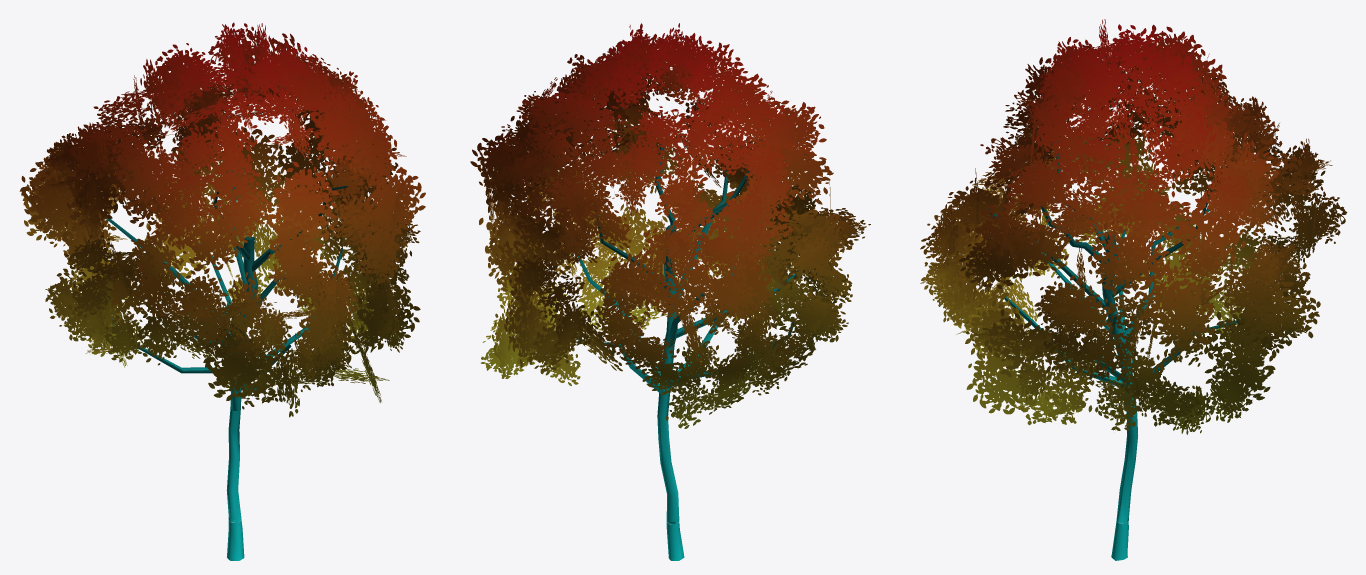
Rendered from V2GenesisBirch1.fbx.
3 views of the same model, side by side, from view 1: azimuth 30°, elevation 25°; view 2: azimuth 150°, elevation 25°; view 3: azimuth 270°, elevation 25° (orthographic). The views are drawn at different scales.
Parts seen in each view (by area): view 1: BarkAndLeaves, Stump; view 2: BarkAndLeaves, Stump; view 3: BarkAndLeaves, Stump.
Boxes of the visible parts, x1,y1,x2,y2 form: BarkAndLeaves: (19,22,425,522); Stump: (227,520,244,560); BarkAndLeaves: (470,23,870,524); Stump: (666,522,684,560); BarkAndLeaves: (920,19,1347,522); Stump: (1111,521,1128,560).
Bounding box in the file's own units: 825 × 1124 × 832.
